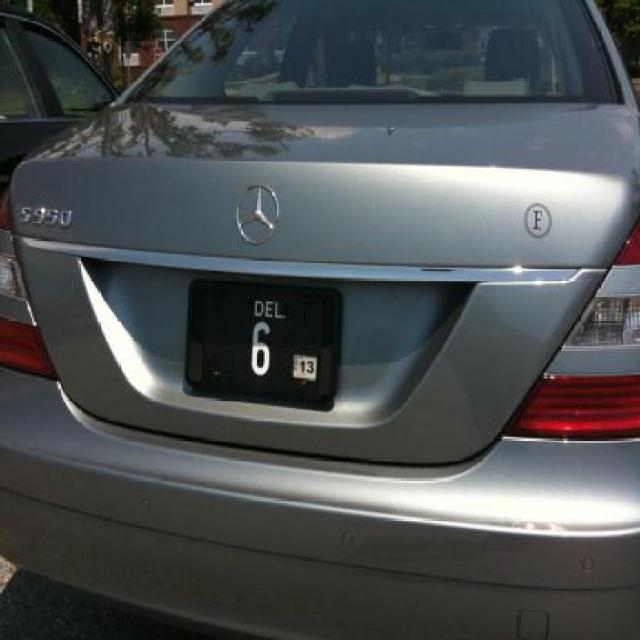License-Plates: (185, 279, 345, 396)
